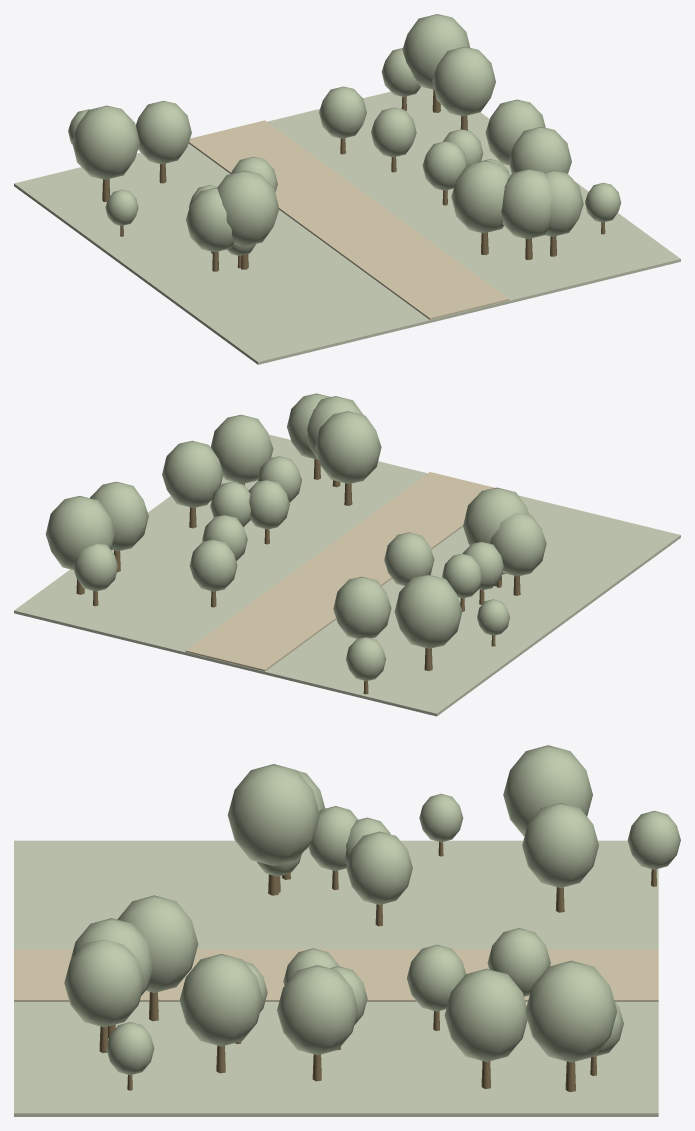
The picture shows the model from 3 angles, top to bottom: view 1: azimuth 30°, elevation 25°; view 2: azimuth 150°, elevation 25°; view 3: azimuth 270°, elevation 25°; orthographic projection. The views are drawn at different scales.
Parts seen in each view (by area): view 1: terrain, object 2, lod-near-12, lod-near-4, lod-near-0, lod-near-6, lod-near-21, lod-near-16, lod-near-28, lod-near-24, lod-near-14, lod-near-29 (+9 smaller); view 2: terrain, object 2, lod-near-12, lod-near-6, lod-near-16, lod-near-24, lod-near-29, lod-near-28, lod-near-14, lod-near-0, lod-near-4, lod-near-25 (+12 smaller); view 3: terrain, object 2, lod-near-4, lod-near-16, lod-near-0, lod-near-24, lod-near-29, lod-near-1, lod-near-12, lod-near-28, lod-near-6, lod-near-25 (+10 smaller).
Part boxes in pixels (bbox=[...]): terrain: bbox=[14, 87, 680, 364]; object 2: bbox=[188, 120, 509, 319]; lod-near-12: bbox=[72, 105, 139, 179]; lod-near-4: bbox=[217, 170, 279, 246]; lod-near-0: bbox=[432, 46, 495, 116]; lod-near-6: bbox=[451, 160, 510, 233]; lod-near-21: bbox=[501, 169, 551, 238]; lod-near-16: bbox=[402, 14, 470, 89]; lod-near-28: bbox=[136, 100, 191, 164]; lod-near-24: bbox=[508, 127, 571, 173]; lod-near-14: bbox=[186, 187, 233, 252]; lod-near-29: bbox=[485, 99, 545, 165]; terrain: bbox=[14, 434, 680, 716]; object 2: bbox=[185, 472, 494, 671]; lod-near-12: bbox=[394, 574, 462, 648]; lod-near-6: bbox=[315, 411, 381, 483]; lod-near-16: bbox=[45, 496, 115, 569]; lod-near-24: bbox=[210, 414, 273, 483]; lod-near-29: bbox=[162, 440, 223, 507]; lod-near-28: bbox=[333, 576, 391, 638]; lod-near-14: bbox=[490, 513, 546, 576]; lod-near-0: bbox=[90, 481, 148, 551]; lod-near-4: bbox=[463, 487, 529, 544]; lod-near-25: bbox=[384, 532, 434, 585]; terrain: bbox=[14, 840, 658, 1116]; object 2: bbox=[14, 949, 658, 1001]; lod-near-4: bbox=[227, 764, 319, 865]; lod-near-16: bbox=[525, 960, 617, 1062]; lod-near-0: bbox=[444, 968, 527, 1061]; lod-near-24: bbox=[179, 954, 263, 1046]; lod-near-29: bbox=[277, 965, 358, 1055]; lod-near-1: bbox=[64, 939, 144, 1027]; lod-near-12: bbox=[503, 745, 592, 836]; lod-near-28: bbox=[522, 803, 598, 887]; lod-near-6: bbox=[117, 895, 198, 992]; lod-near-25: bbox=[346, 831, 412, 904].
Size of the model in its own units: 32 by 7.22 by 33.1.
